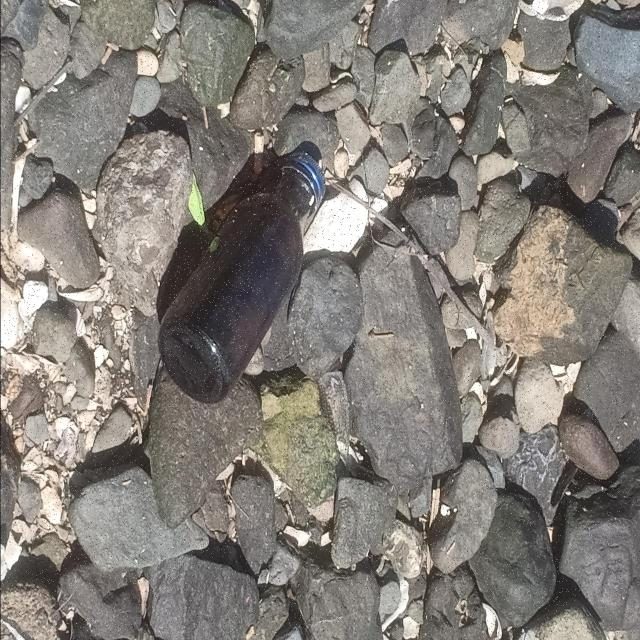glass_waste: (158, 152, 326, 406)
